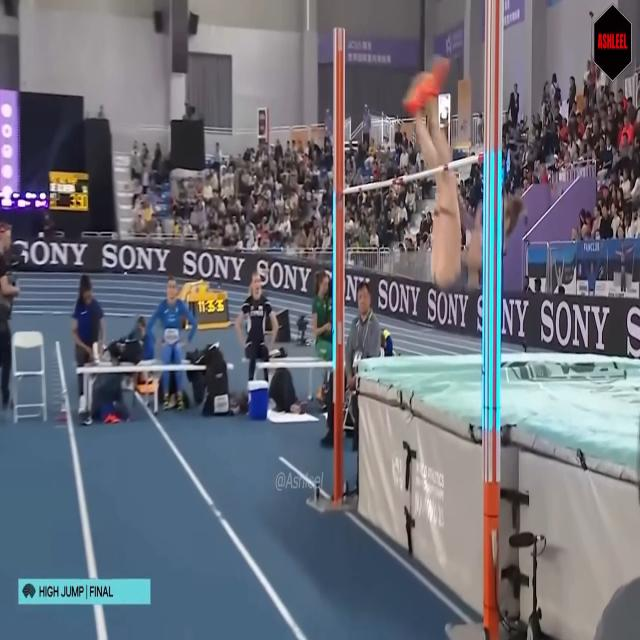land: (403, 51, 525, 296)
